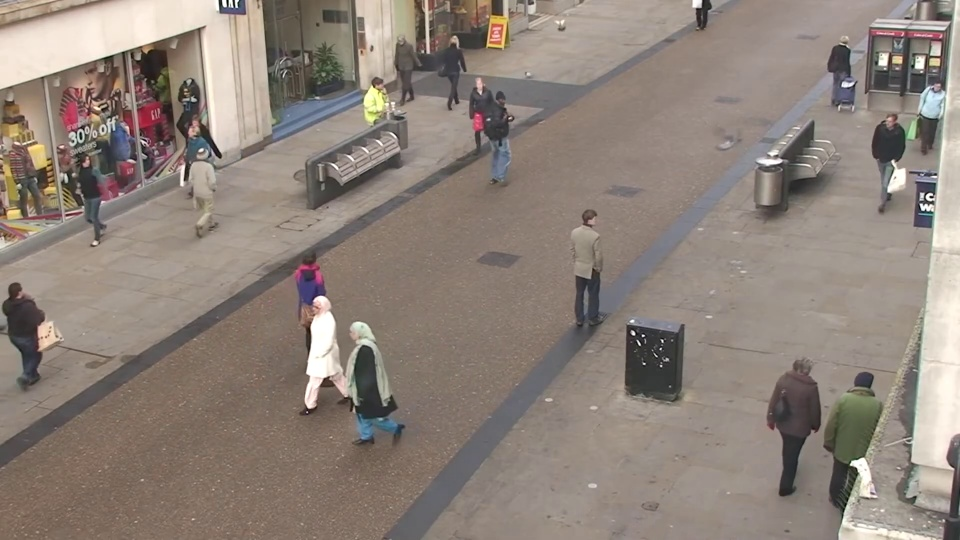pedestrian: (827, 356, 888, 518), (775, 342, 832, 498), (4, 267, 68, 401), (324, 315, 377, 462), (287, 289, 339, 429), (295, 239, 342, 366), (58, 153, 106, 256), (570, 204, 608, 324), (864, 113, 906, 210), (907, 80, 951, 172), (193, 137, 232, 237), (170, 126, 209, 222), (176, 114, 214, 207), (489, 88, 520, 176), (826, 33, 859, 109), (365, 75, 395, 158), (462, 73, 491, 157), (385, 35, 412, 107), (446, 29, 472, 100)
